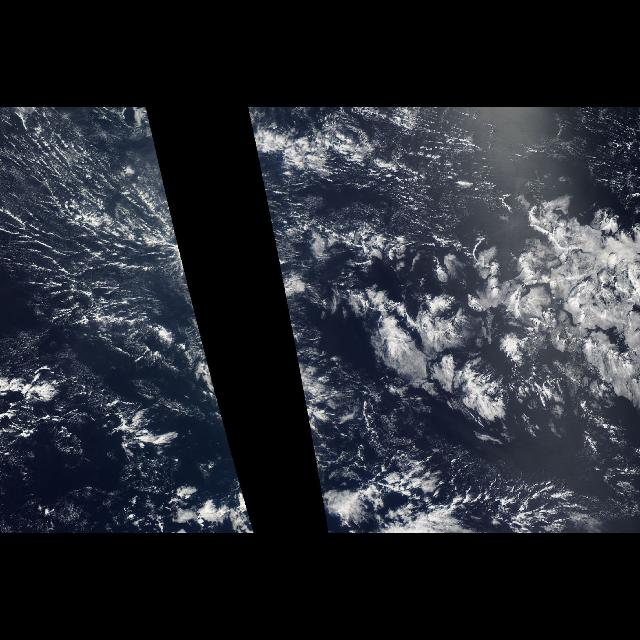Fish: (259, 114, 541, 226), (330, 431, 600, 534)
Flower: (382, 186, 638, 422)
Gravel: (2, 113, 174, 275)
Sugar: (3, 109, 205, 389), (430, 114, 632, 210)
